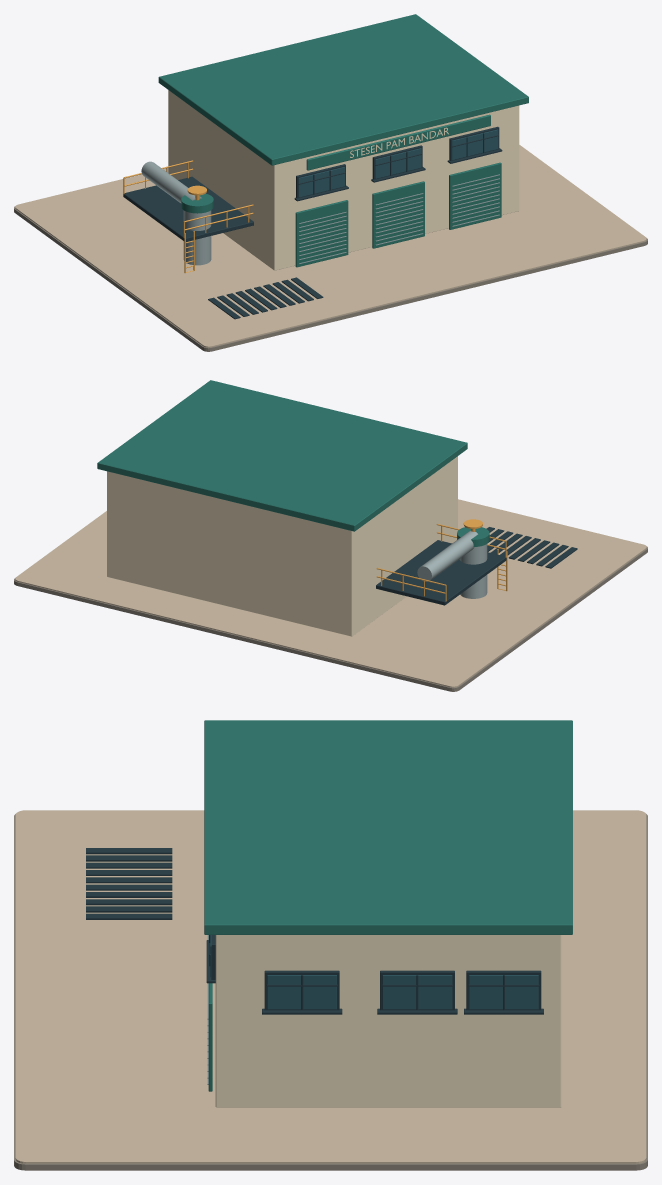
3 renders of one model, top to bottom at view 1: azimuth 30°, elevation 25°; view 2: azimuth 150°, elevation 25°; view 3: azimuth 270°, elevation 25°, orthographic. The views are drawn at different scales.
Parts seen in each view (by area): view 1: Pump House, Service Yard, Access Platform, Pump Pipework, Drainage Channel; view 2: Pump House, Service Yard, Access Platform, Pump Pipework, Drainage Channel; view 3: Pump House, Service Yard, Drainage Channel.
Boxes of the visible parts, x1,y1,x2,y2 form: Pump House: [158, 14, 528, 270]; Service Yard: [14, 145, 647, 351]; Access Platform: [123, 160, 253, 273]; Pump Pipework: [141, 161, 213, 265]; Drainage Channel: [208, 277, 323, 319]; Pump House: [97, 380, 467, 636]; Service Yard: [14, 499, 647, 691]; Access Platform: [376, 523, 507, 605]; Pump Pipework: [417, 519, 489, 598]; Drainage Channel: [486, 527, 577, 568]; Pump House: [204, 720, 572, 1107]; Service Yard: [14, 810, 647, 1170]; Drainage Channel: [86, 848, 172, 919].
Bounding box in the file's own units: 29 × 7.5 × 22.
